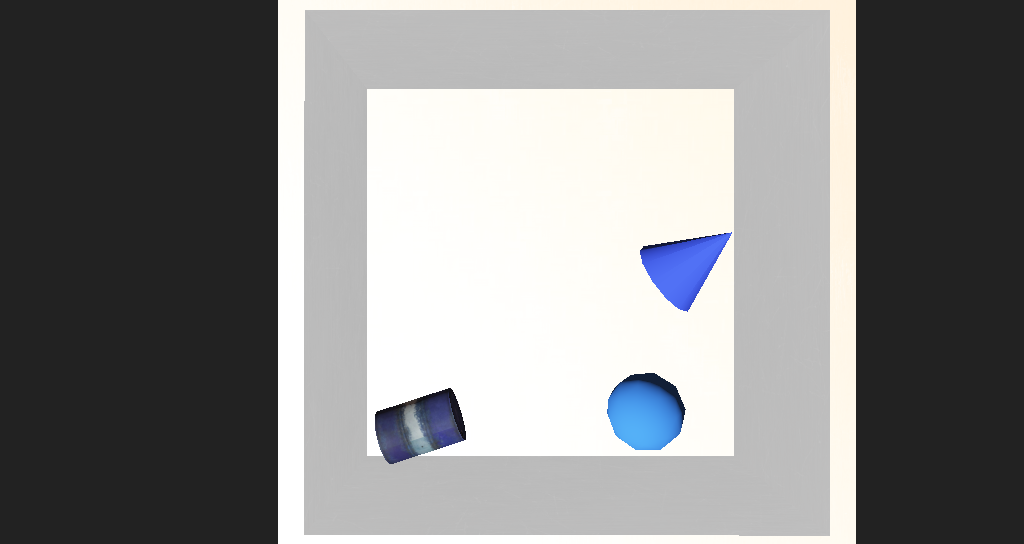cone: (357, 334, 438, 382)
cylinder: (566, 220, 687, 296)
sphere: (546, 324, 613, 372)
